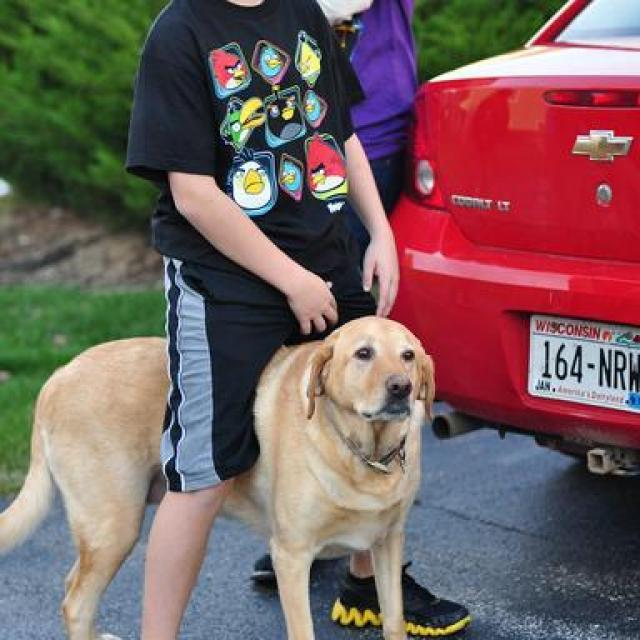adult_dog: (0, 316, 438, 640)
